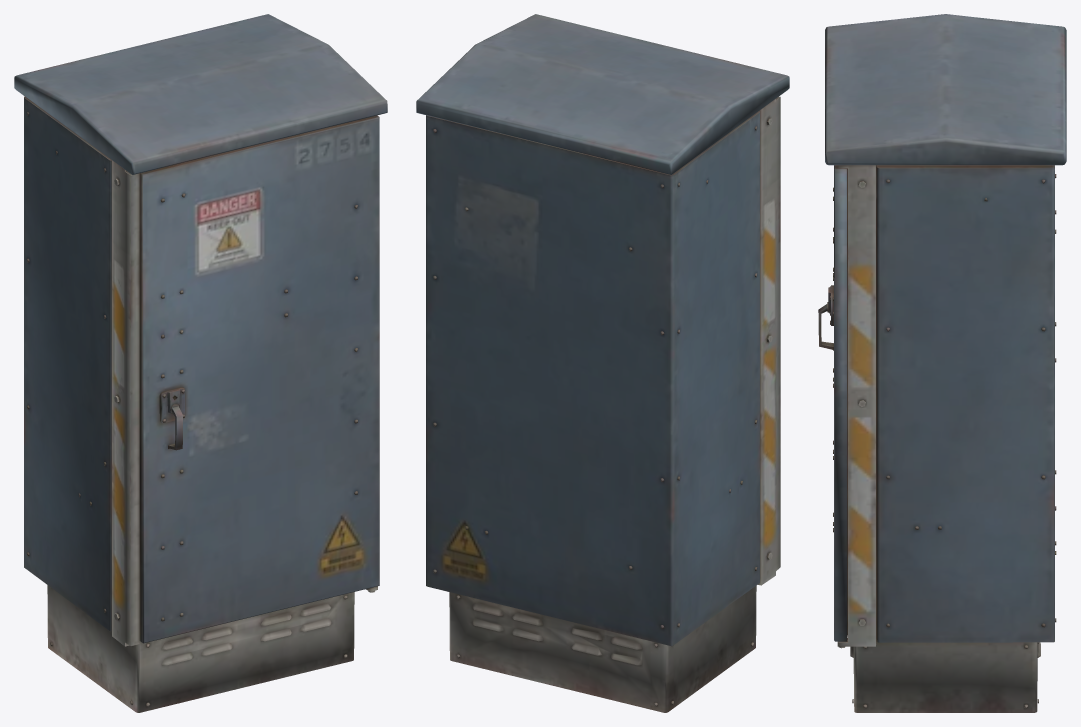
Rendered from prop_utility_box_aaa-4cd1c2625560.glb.
The picture shows the model from 3 angles, left to right: view 1: azimuth 30°, elevation 25°; view 2: azimuth 150°, elevation 25°; view 3: azimuth 270°, elevation 25°; orthographic projection.
Visible parts, largest first — view 1: utility_box_01_box; view 2: utility_box_01_box; view 3: utility_box_01_box.
Boxes of the visible parts, left/top/right/bottom form: utility_box_01_box: left=14, top=14, right=387, bottom=712; utility_box_01_box: left=416, top=14, right=789, bottom=712; utility_box_01_box: left=818, top=14, right=1066, bottom=712.
Bounding box in the file's own units: 0.52 × 1.12 × 0.4312.
Materials: 1 (1 with a texture image).
